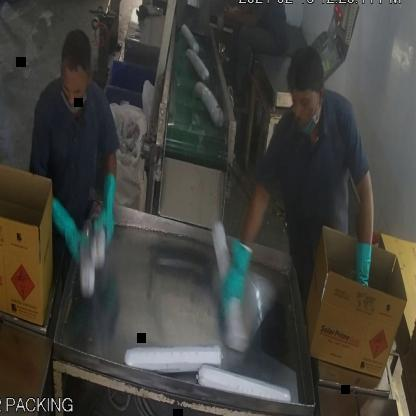glove: (218, 226, 260, 331), (43, 178, 88, 274), (88, 162, 124, 253), (349, 228, 376, 297)
no_glove: (219, 3, 266, 32)
